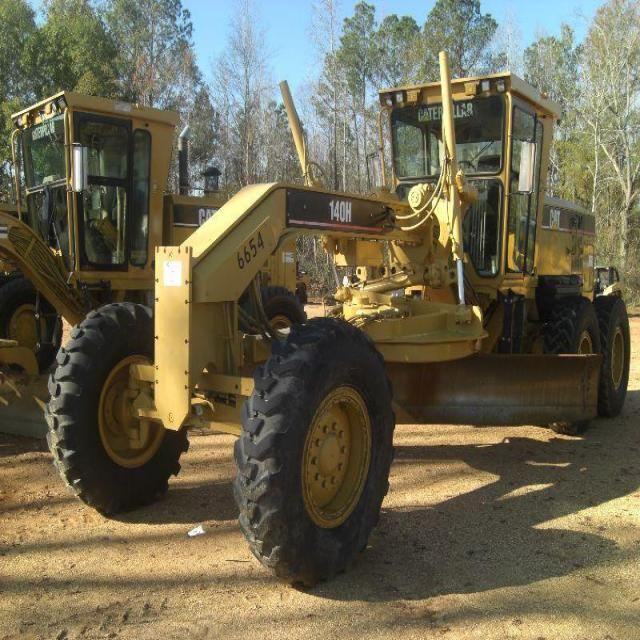buldozerpayloadergrader: (37, 61, 636, 582)
